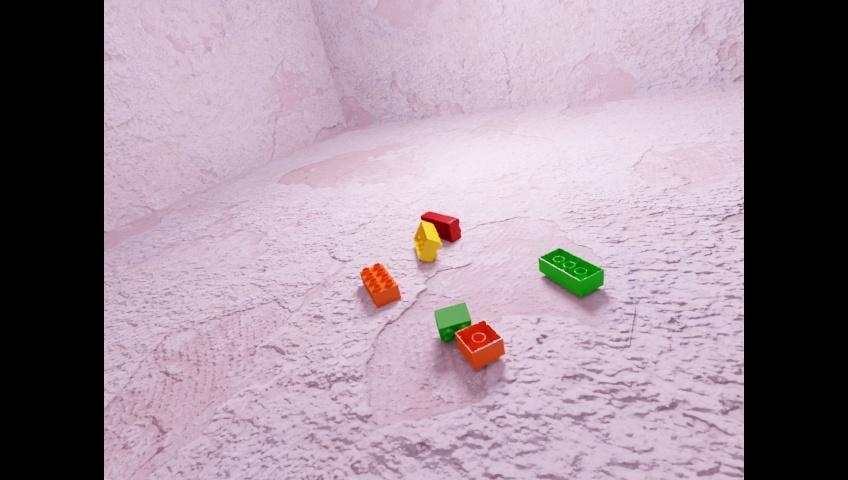2x2_green: (434, 301, 470, 342)
2x2_orange: (455, 318, 504, 369)
4x2_green: (539, 246, 603, 296)
4x2_orange: (359, 262, 400, 307)
4x2_red: (420, 210, 460, 242)
4x2_yellow: (413, 220, 441, 261)
